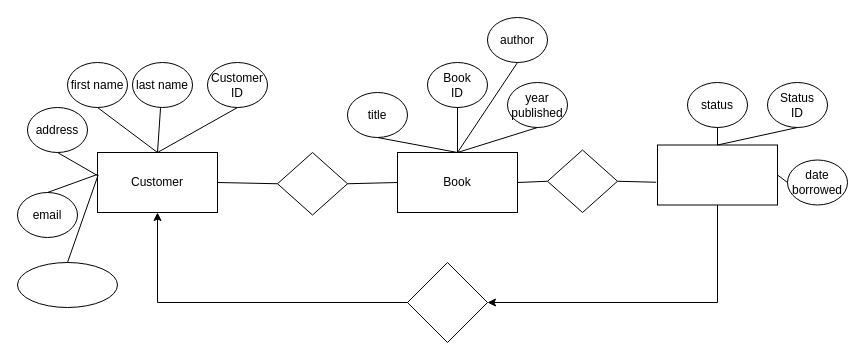
Image size: 865x360. Some labels were removed from this diagram. Each missing label, with the box of its shape:
Book Status: (656, 144, 778, 205)
Borrow Book: (276, 152, 348, 215)
Check Status: (546, 149, 618, 212)
Give Book: (406, 262, 488, 342)
mobile_number: (16, 262, 118, 308)
